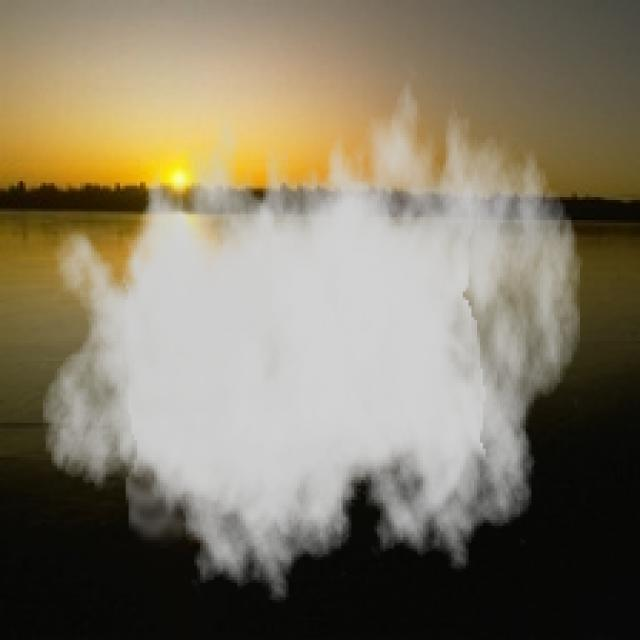smoke: (40, 57, 583, 612)
